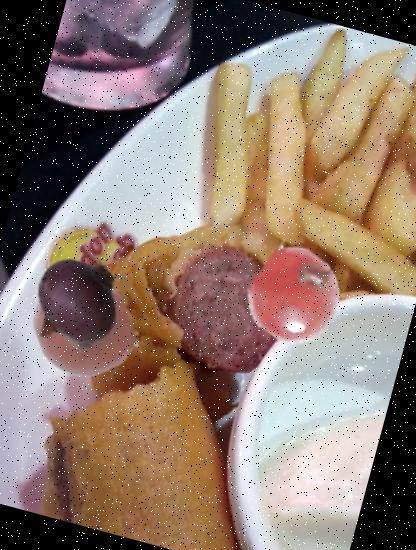Onion: (17, 247, 132, 362)
Redcurrant: (20, 264, 145, 389), (237, 238, 355, 356)
